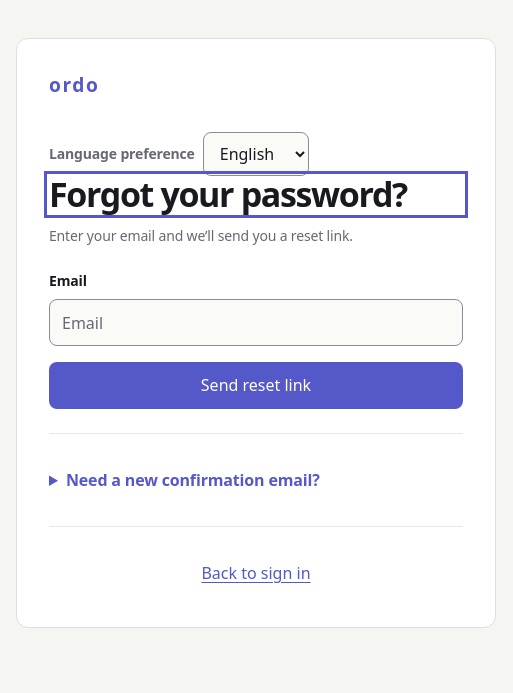
Test: existing authentication flows › presents the forgot-password endpoint neutral response
Check: the text "Email" is shown, box [49, 271, 87, 290]
Type "unknown@example.com" into the field with placeholder "Email".
click(256, 323); type("unknown@example.com")  # box [49, 299, 463, 346]
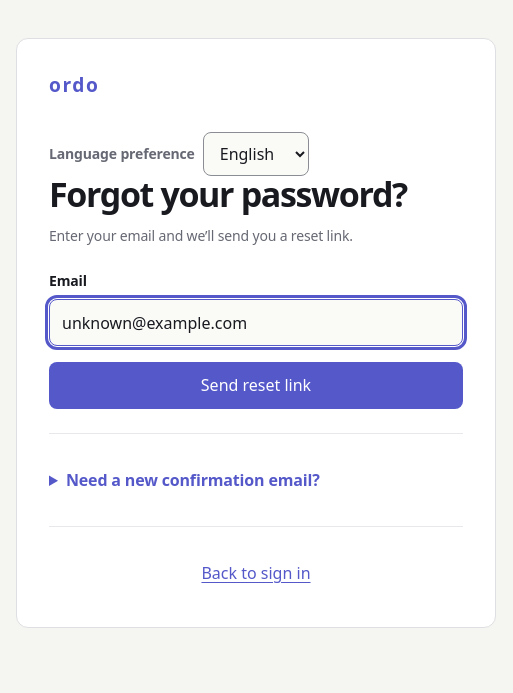
Click the button "Send reset link".
click(256, 386)  # box [49, 362, 463, 409]
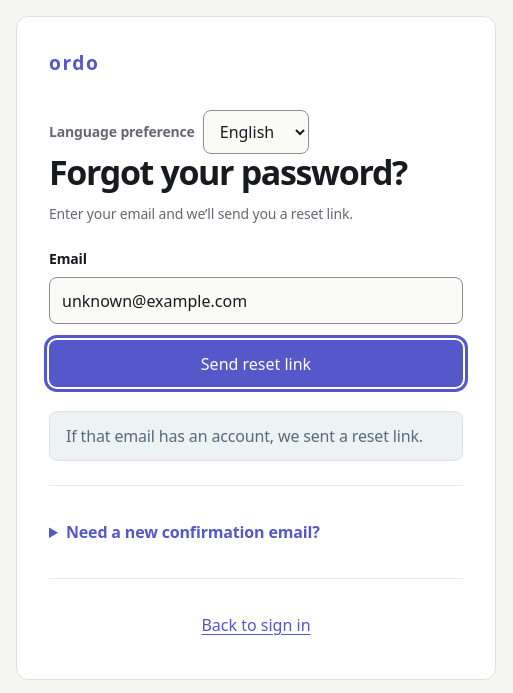
Check: the message reads "If that email has an account, we sent a reset link.", box [66, 425, 423, 447]
